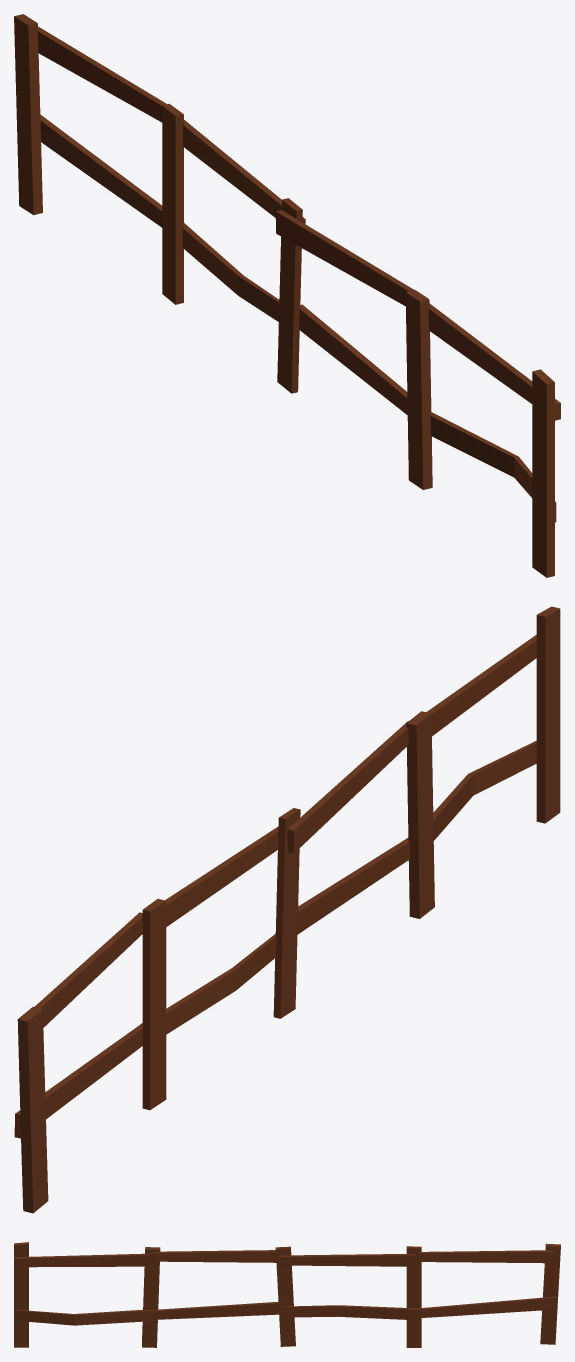
Rendered from Fence.obj.
The picture shows the model from 3 angles, top to bottom: view 1: azimuth 30°, elevation 25°; view 2: azimuth 150°, elevation 25°; view 3: azimuth 270°, elevation 25°; orthographic projection. The views are drawn at different scales.
Visible parts, largest first — view 1: Mesh1 Model, Mesh10 Model, Mesh12 Model, Mesh7 Model, Mesh11 Model, Mesh2 Model, Mesh13 Model, Mesh4 Model, Mesh9 Model, Mesh3 Model, Mesh6 Model, Mesh8 Model; view 2: Mesh1 Model, Mesh10 Model, Mesh12 Model, Mesh7 Model, Mesh11 Model, Mesh2 Model, Mesh6 Model, Mesh9 Model, Mesh8 Model, Mesh4 Model, Mesh13 Model, Mesh3 Model; view 3: Mesh1 Model, Mesh13 Model, Mesh4 Model, Mesh6 Model, Mesh3 Model, Mesh8 Model, Mesh9 Model, Mesh2 Model, Mesh11 Model, Mesh7 Model, Mesh10 Model, Mesh12 Model.
Boxes of the visible parts, bbox=[...] form: Mesh1 Model: bbox=[428, 304, 560, 577]; Mesh10 Model: bbox=[14, 14, 42, 215]; Mesh12 Model: bbox=[405, 290, 432, 489]; Mesh7 Model: bbox=[162, 103, 183, 304]; Mesh11 Model: bbox=[277, 198, 302, 393]; Mesh2 Model: bbox=[275, 210, 413, 306]; Mesh13 Model: bbox=[40, 114, 162, 227]; Mesh4 Model: bbox=[38, 26, 166, 122]; Mesh9 Model: bbox=[299, 304, 407, 414]; Mesh3 Model: bbox=[430, 412, 556, 522]; Mesh6 Model: bbox=[183, 120, 305, 223]; Mesh8 Model: bbox=[182, 223, 279, 321]; Mesh1 Model: bbox=[426, 606, 560, 823]; Mesh10 Model: bbox=[17, 1007, 48, 1213]; Mesh12 Model: bbox=[406, 711, 434, 918]; Mesh7 Model: bbox=[142, 899, 166, 1110]; Mesh11 Model: bbox=[273, 808, 300, 1018]; Mesh2 Model: bbox=[287, 721, 408, 853]; Mesh6 Model: bbox=[165, 827, 278, 926]; Mesh9 Model: bbox=[297, 838, 409, 934]; Mesh8 Model: bbox=[166, 934, 276, 1034]; Mesh4 Model: bbox=[34, 912, 142, 1027]; Mesh13 Model: bbox=[14, 1023, 142, 1138]; Mesh3 Model: bbox=[433, 741, 536, 840]; Mesh1 Model: bbox=[14, 1242, 150, 1347]; Mesh13 Model: bbox=[415, 1296, 557, 1318]; Mesh4 Model: bbox=[417, 1250, 554, 1263]; Mesh6 Model: bbox=[278, 1254, 415, 1266]; Mesh3 Model: bbox=[15, 1309, 151, 1325]; Mesh8 Model: bbox=[282, 1305, 415, 1320]; Mesh9 Model: bbox=[151, 1301, 281, 1319]; Mesh2 Model: bbox=[153, 1250, 276, 1262]; Mesh11 Model: bbox=[275, 1246, 295, 1346]; Mesh7 Model: bbox=[406, 1246, 421, 1347]; Mesh10 Model: bbox=[540, 1243, 560, 1344]; Mesh12 Model: bbox=[142, 1247, 160, 1347].
Bounding box in the file's own units: 0.366 × 1.59 × 7.58.
